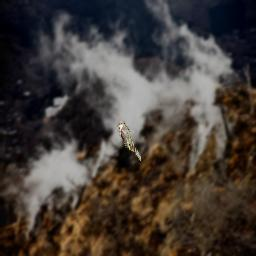Cuckoo: (117, 121, 141, 161)
